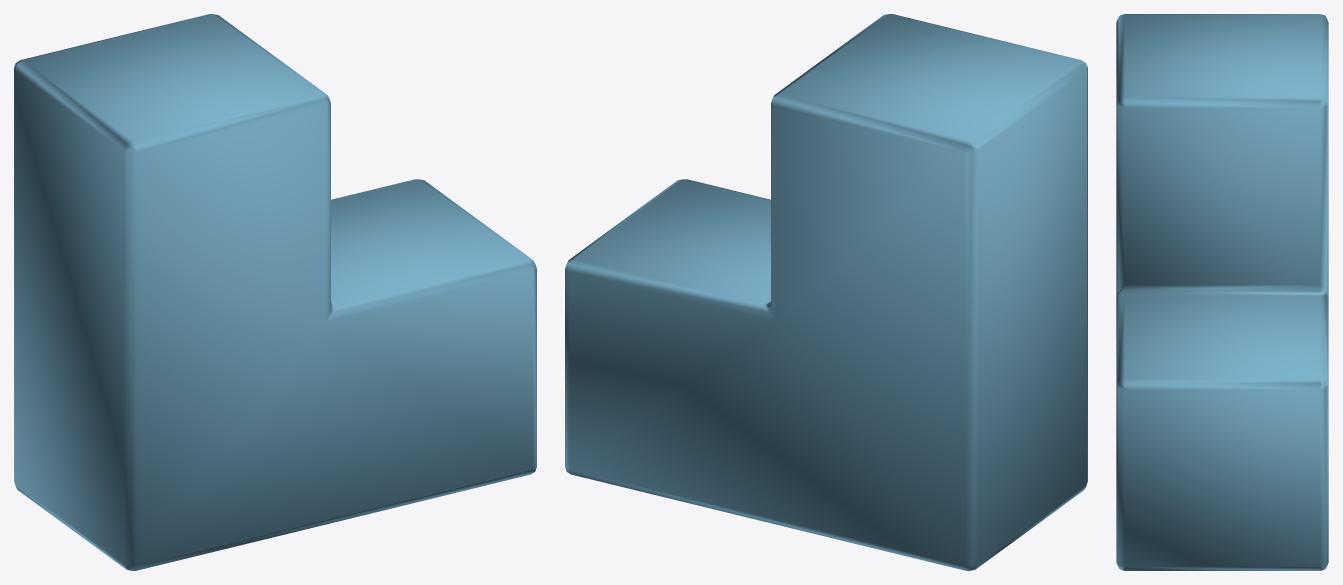
Rendered from A02_L_BLOCK.fbx.
The picture shows the model from 3 angles, left to right: view 1: azimuth 30°, elevation 25°; view 2: azimuth 150°, elevation 25°; view 3: azimuth 270°, elevation 25°; orthographic projection. The views are drawn at different scales.
Parts seen in each view (by area): view 1: A02_L_BLOCK; view 2: A02_L_BLOCK; view 3: A02_L_BLOCK.
Part boxes in pixels (box(x1,y1,x2,y2)): A02_L_BLOCK: box(14, 14, 536, 570); A02_L_BLOCK: box(565, 14, 1087, 570); A02_L_BLOCK: box(1116, 14, 1328, 570).
Bounding box in the file's own units: 200 × 200 × 100.
